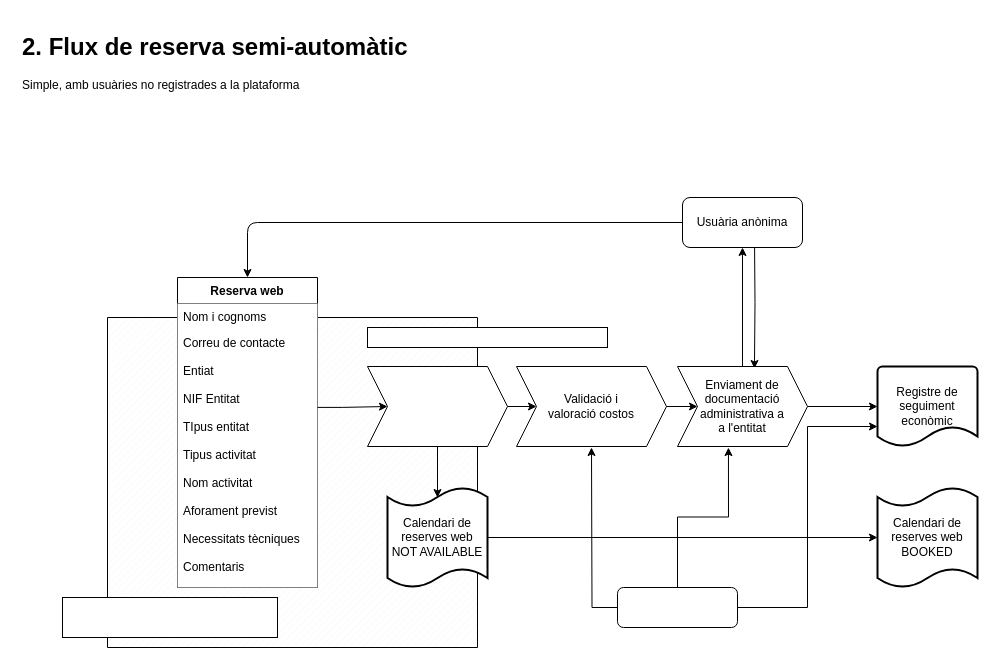
This 995x665 diagram has some shape labels left out. Here are the shapes that lost their labels. From the top down, the centre of each, then its label:
point (487, 337): reserves@canodrom.barcelona
point (437, 406): Correu-e de reserva pendent de validació
point (170, 617): Accions automatitzaades a la web
point (677, 607): Oficina Tècnica
